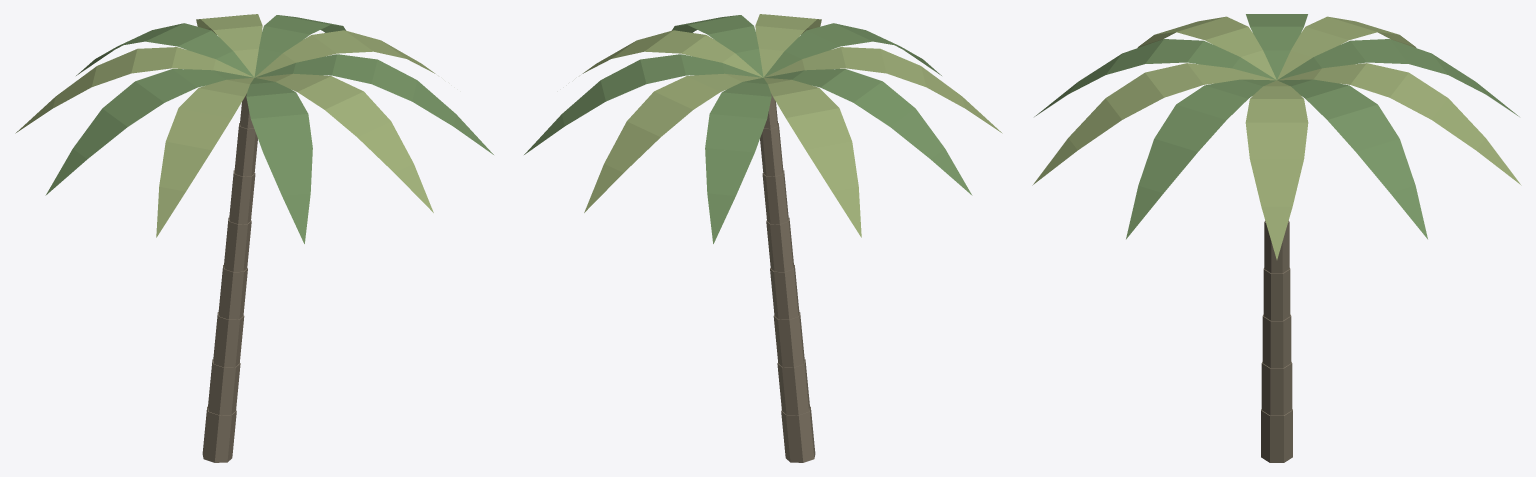
The model's file is relay_palm.glb.
3 views of the same model, side by side, from view 1: azimuth 30°, elevation 25°; view 2: azimuth 150°, elevation 25°; view 3: azimuth 270°, elevation 25° (orthographic). The views are drawn at different scales.
Visible parts, largest first — view 1: relay_palm_leaf, relay_palm_leaflight, relay_palm_bark; view 2: relay_palm_leaf, relay_palm_leaflight, relay_palm_bark; view 3: relay_palm_leaflight, relay_palm_leaf, relay_palm_bark.
Boxes of the visible parts, left/top/right/bottom form: relay_palm_leaf: left=45, top=15, right=493, bottom=243; relay_palm_leaflight: left=15, top=14, right=435, bottom=237; relay_palm_bark: left=202, top=93, right=257, bottom=462; relay_palm_leaf: left=524, top=15, right=972, bottom=243; relay_palm_leaflight: left=582, top=14, right=1002, bottom=237; relay_palm_bark: left=760, top=93, right=815, bottom=462; relay_palm_leaflight: left=1032, top=16, right=1521, bottom=259; relay_palm_leaf: left=1034, top=14, right=1519, bottom=239; relay_palm_bark: left=1261, top=220, right=1292, bottom=462.
Size of the model in its own units: 15.6 by 13.83 by 14.84.
